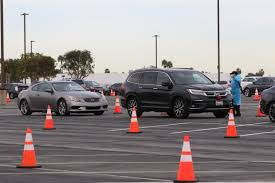car: (121, 66, 232, 118), (19, 80, 110, 115), (261, 85, 275, 123)
cone: (15, 127, 40, 172), (176, 134, 197, 181), (224, 108, 240, 139), (127, 107, 141, 134), (42, 105, 55, 130), (113, 95, 122, 114), (6, 91, 10, 105)
